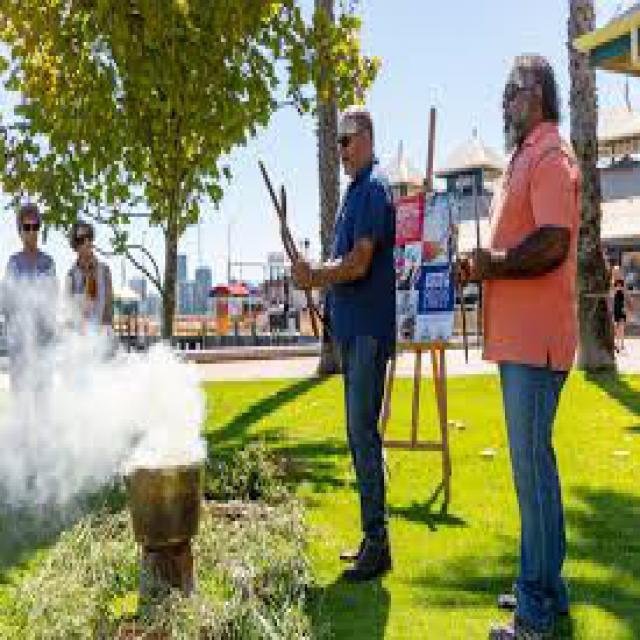Smoke: (0, 254, 204, 516)
